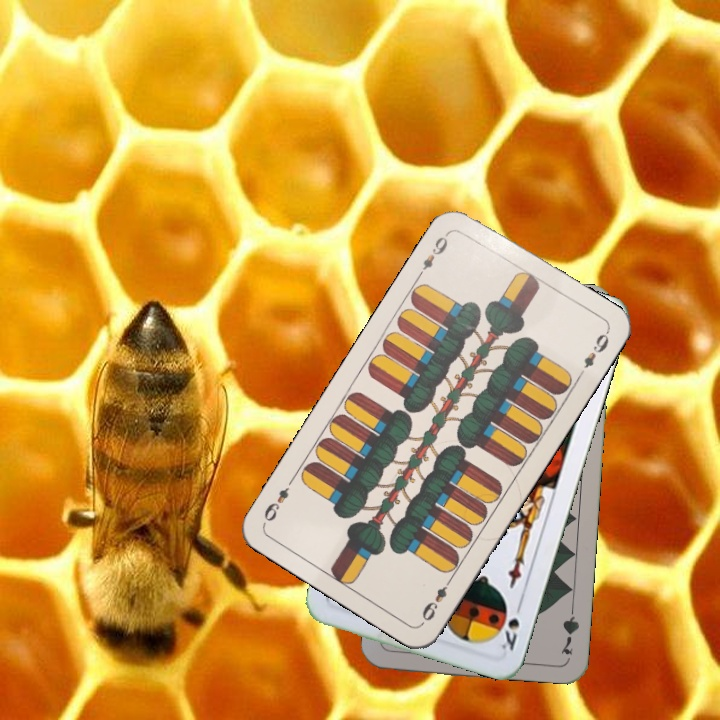E9: (417, 573, 455, 626), (414, 227, 452, 280)
G7: (557, 599, 582, 658)
SK: (497, 597, 525, 654)
